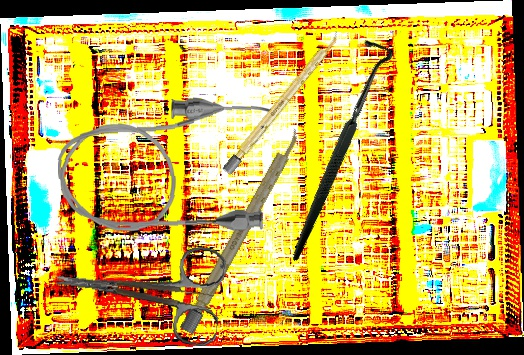Cannula: (54, 93, 279, 241)
Hook Surgical: (214, 32, 457, 262)
Iris Scissors: (49, 227, 229, 349)
Scalpel Handle: (179, 126, 305, 335), (221, 29, 344, 176)
Tissue Forceps: (66, 267, 215, 313)
